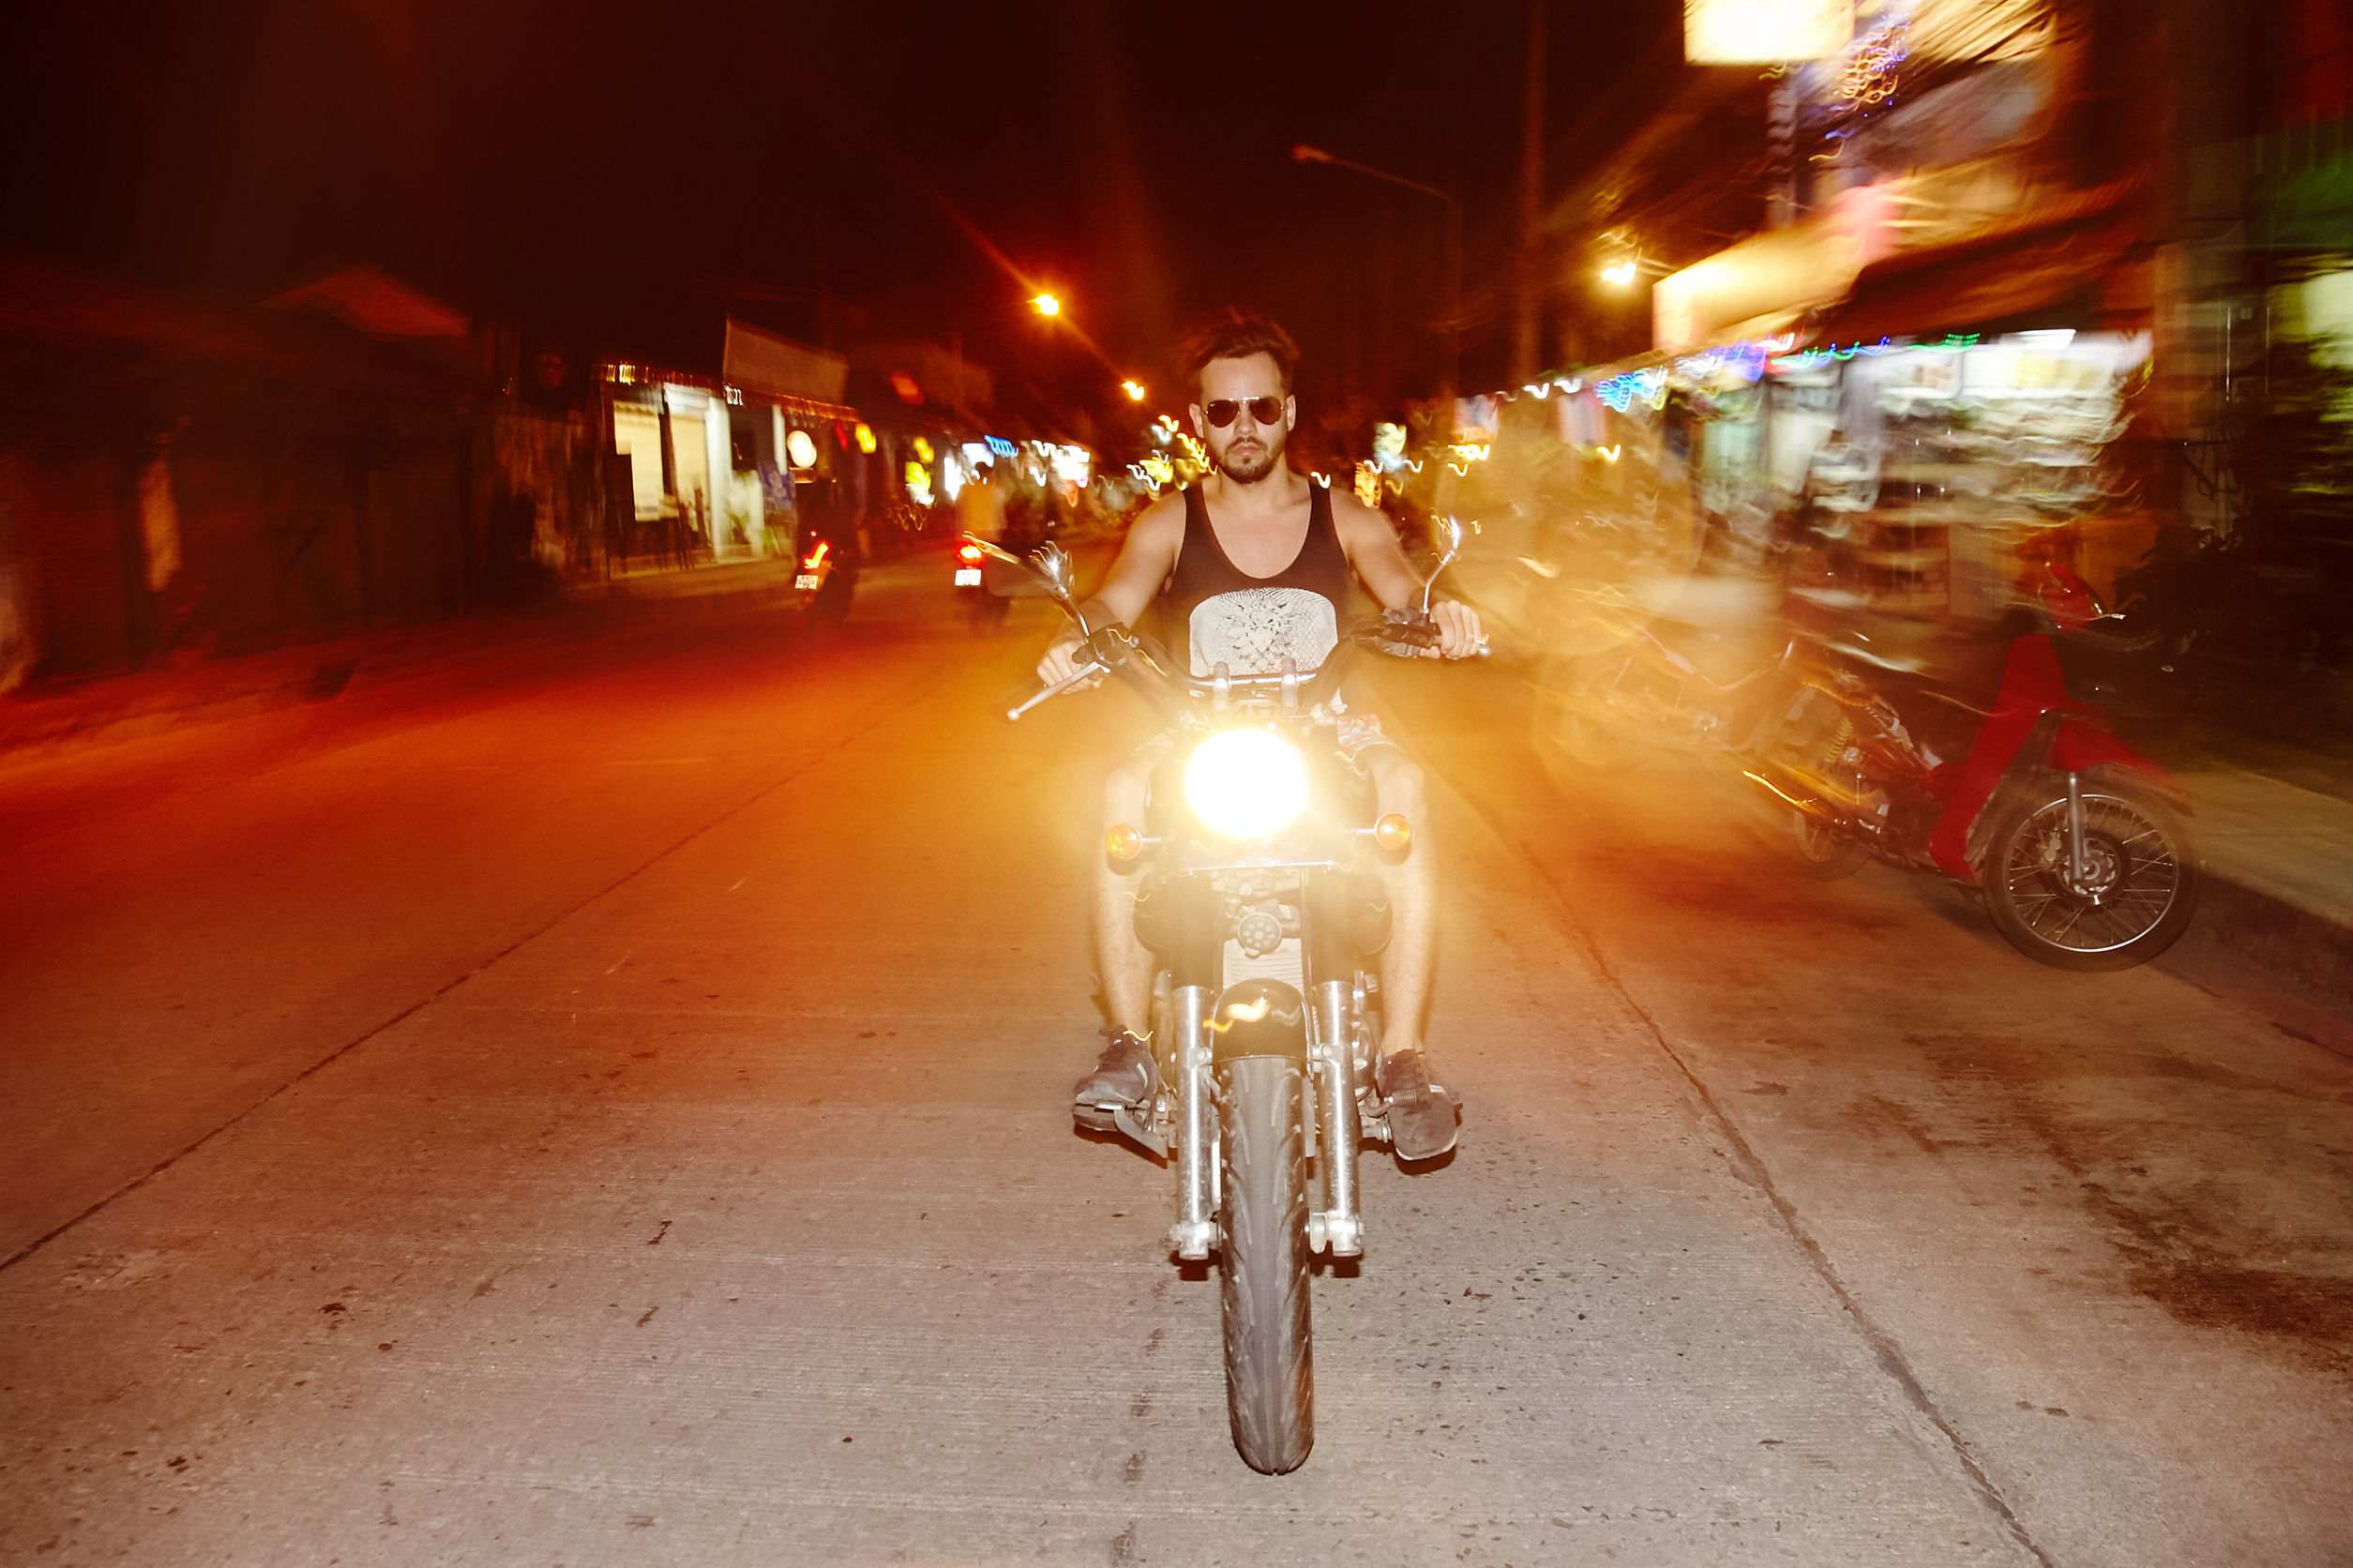bike: (1030, 310, 1475, 1473), (1776, 604, 2187, 940), (952, 479, 1078, 642), (787, 486, 854, 625)
